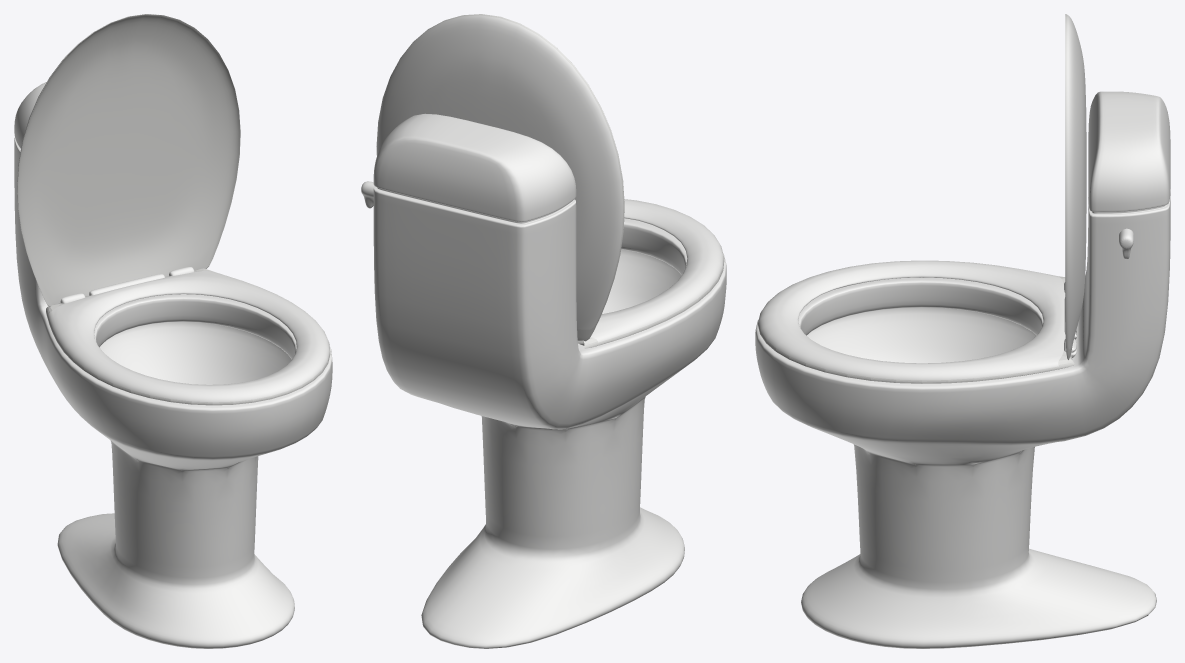
The model's file is toilet.fbx.
3 views of the same model, side by side, from view 1: azimuth 30°, elevation 25°; view 2: azimuth 150°, elevation 25°; view 3: azimuth 270°, elevation 25° (orthographic). The views are drawn at different scales.
Parts seen in each view (by area): view 1: Cylinder.023; view 2: Cylinder.023; view 3: Cylinder.023.
Part boxes in pixels (x1,y1,x2,y2): Cylinder.023: (14,14,332,648); Cylinder.023: (361,14,726,648); Cylinder.023: (755,14,1170,648).
Bounding box in the file's own units: 32 × 73 × 47.
